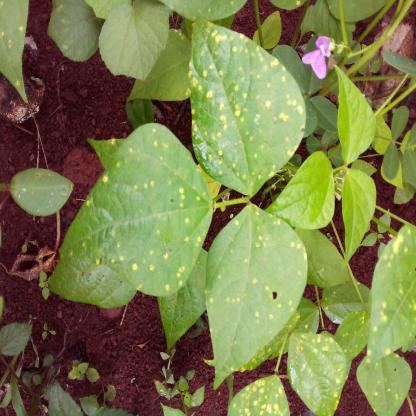Beans_Rust: (58, 125, 211, 294), (185, 14, 305, 196), (202, 204, 306, 396), (366, 227, 416, 360), (284, 331, 349, 416), (357, 344, 414, 414), (0, 0, 29, 105), (225, 374, 287, 416)
